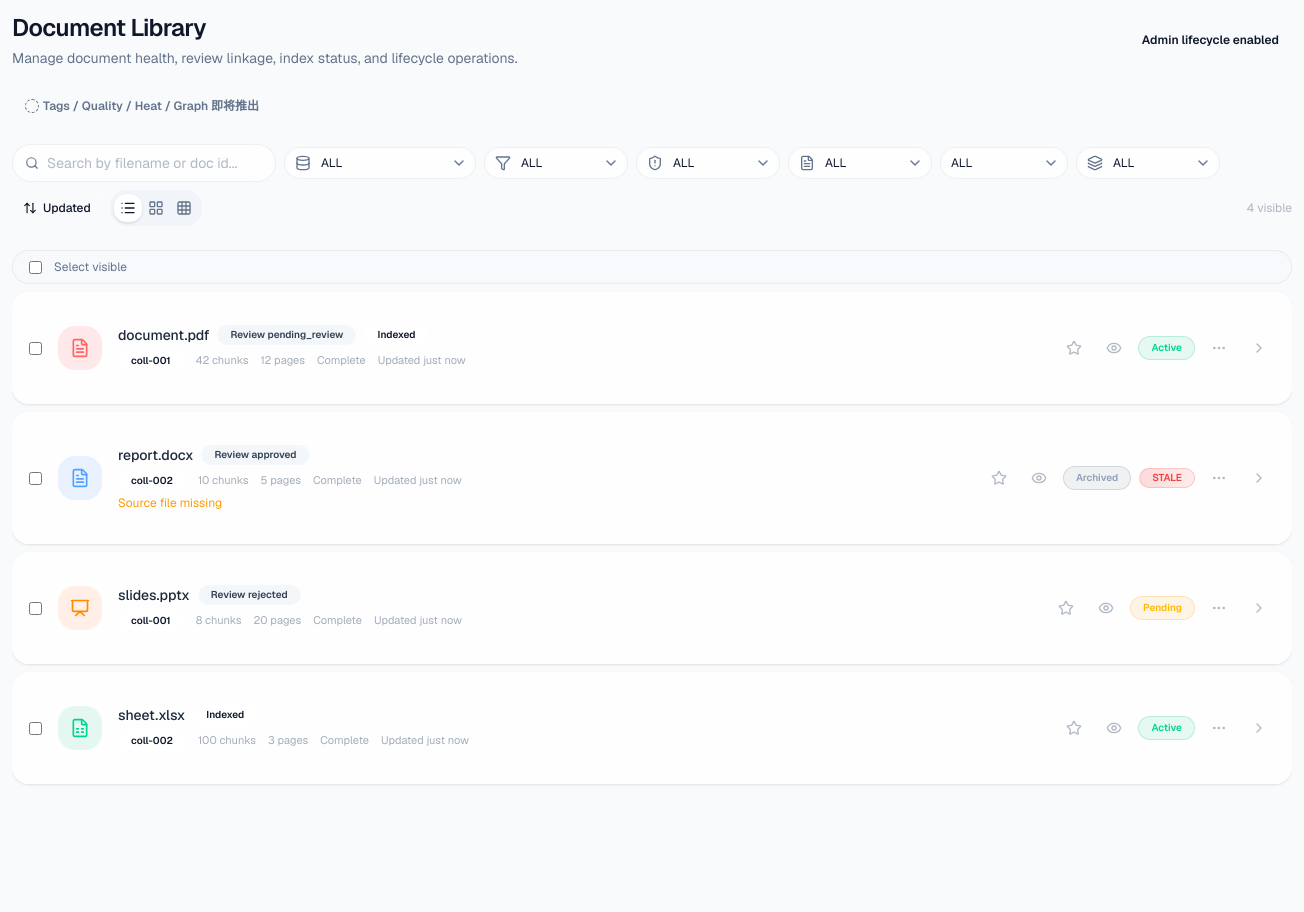
Test case: DocumentsPage › Filters › filters by collection
expect the link "document.pdf" is shown: met, box [118,325,209,345]
Click the 1st dropdown labelled "ALL ▼" at {"x": 380, "y": 163}, box [284,147,476,179]
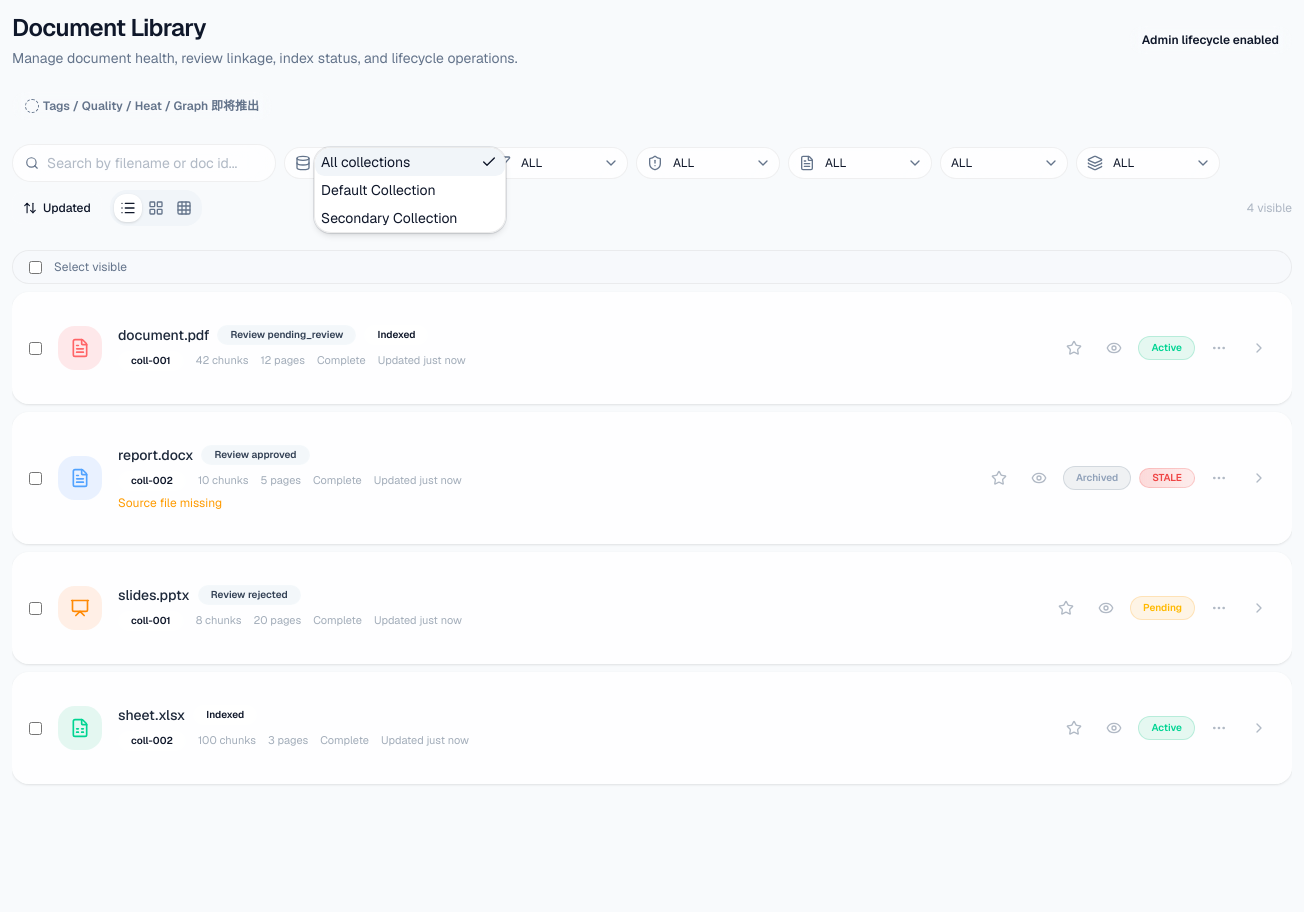
expect the text "Default Collection" is shown: met
Click the option "Default Collection" at {"x": 378, "y": 190}, box [321,181,436,199]
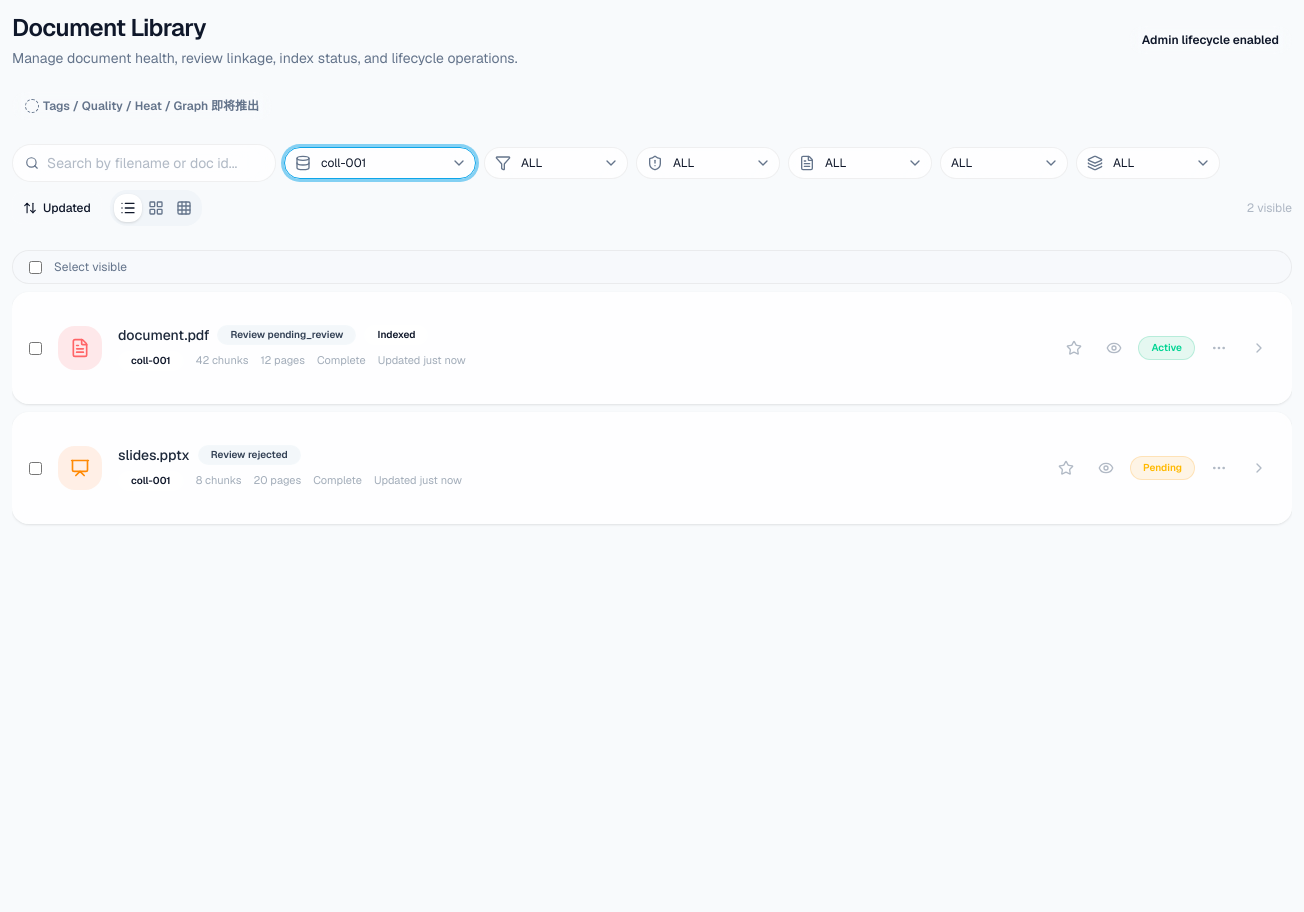
expect the link "document.pdf" is shown: met, box [118,325,209,345]
expect the link "report.docx" is gone: met
